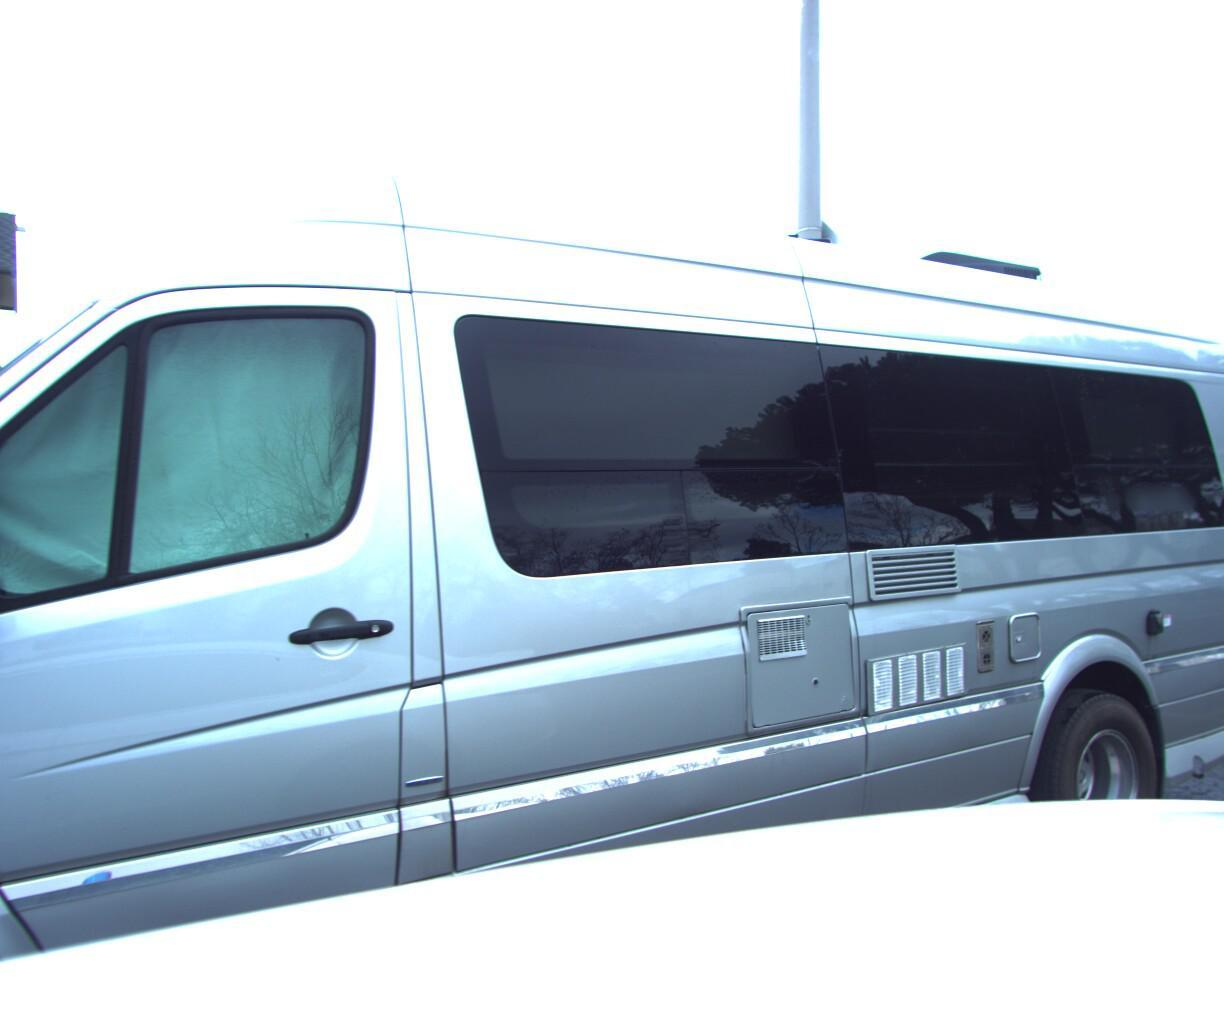car: (1104, 511, 1224, 779)
other_vehicle: (0, 0, 1224, 1024)
